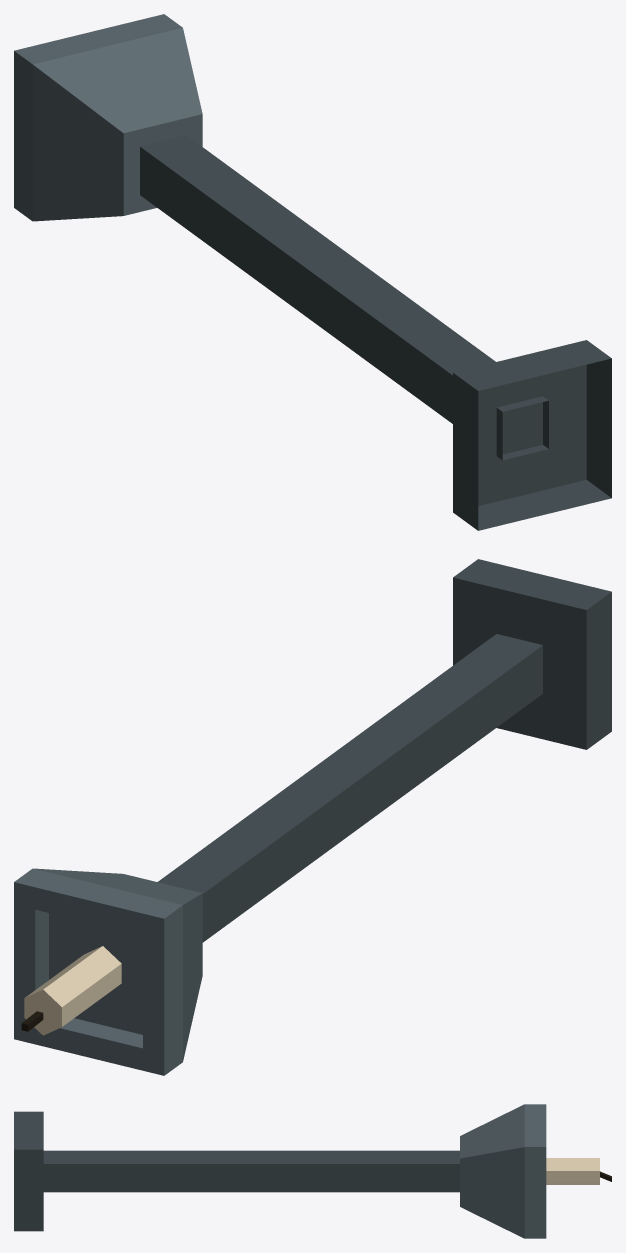
The model's file is Candle Stand 01.FBX.
3 views of the same model, one above another, from view 1: azimuth 30°, elevation 25°; view 2: azimuth 150°, elevation 25°; view 3: azimuth 270°, elevation 25° (orthographic). The views are drawn at different scales.
Visible parts, largest first — view 1: Candle Stand 01; view 2: Candle Stand 01; view 3: Candle Stand 01.
Boxes of the visible parts, x1,y1,x2,y2 form: Candle Stand 01: (14, 14, 611, 530); Candle Stand 01: (14, 559, 611, 1075); Candle Stand 01: (14, 1104, 611, 1238).
Bounding box in the file's own units: 26.29 × 155 × 26.26.
